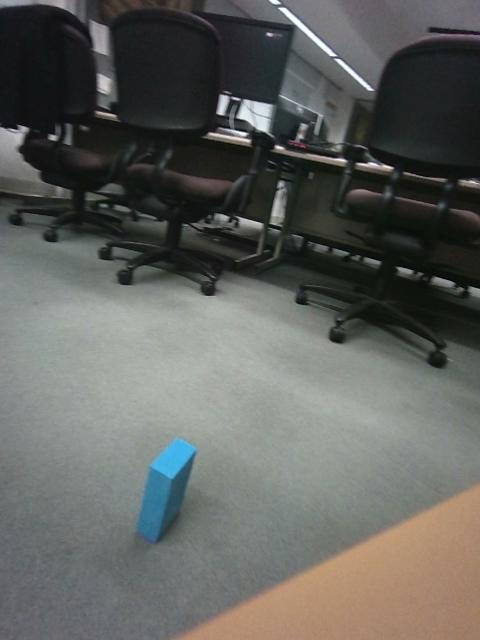block: (264, 324, 324, 372)
